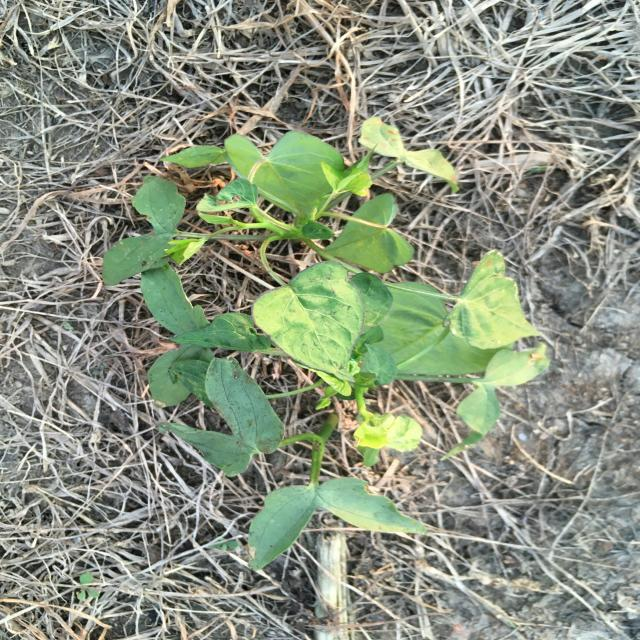MorningGlory: (103, 116, 551, 572)
